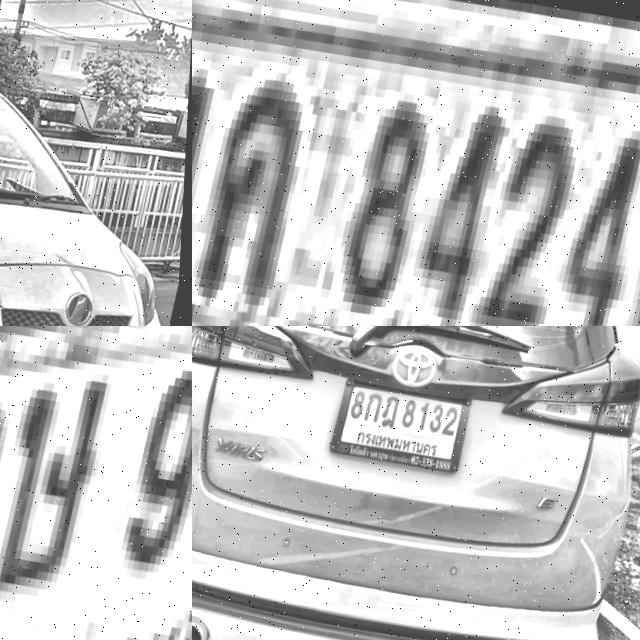license-plate: (192, 0, 640, 326), (0, 326, 192, 640), (323, 364, 486, 480)
